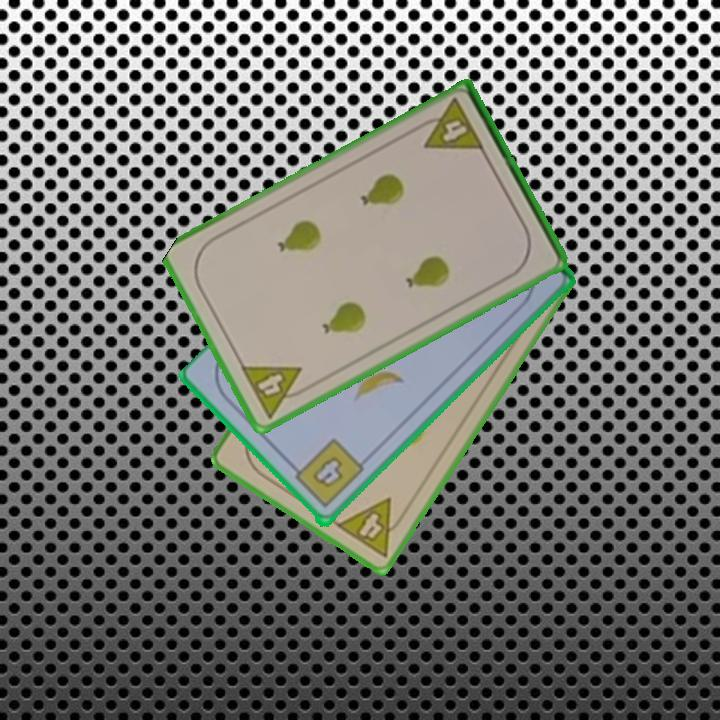4b: (286, 436, 367, 512)
4p: (332, 494, 412, 561), (237, 362, 314, 422), (412, 95, 487, 154)
